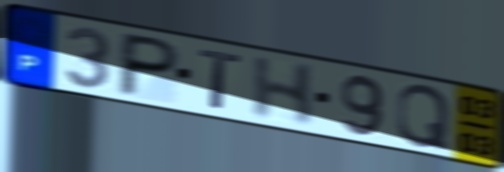3: (62, 24, 112, 91)
9: (338, 72, 387, 139)
H: (249, 55, 319, 129)
P: (113, 30, 184, 99)
Q: (394, 83, 453, 152)
T: (197, 46, 246, 113)
